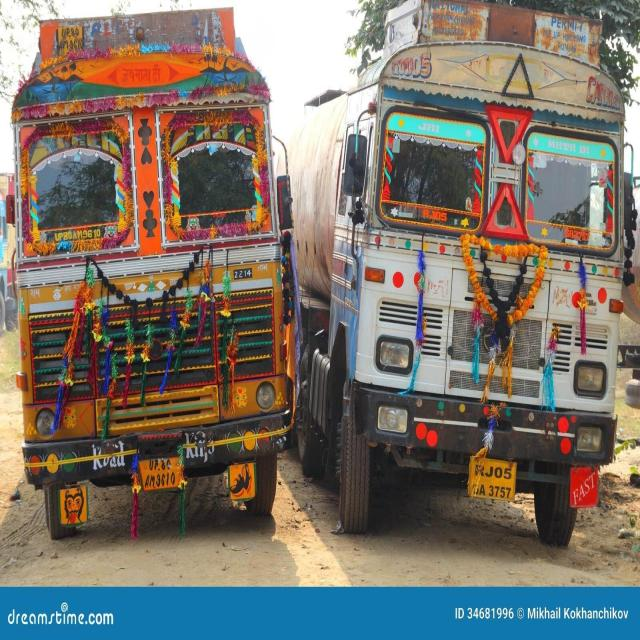truck: (290, 0, 635, 545), (9, 9, 295, 540)
